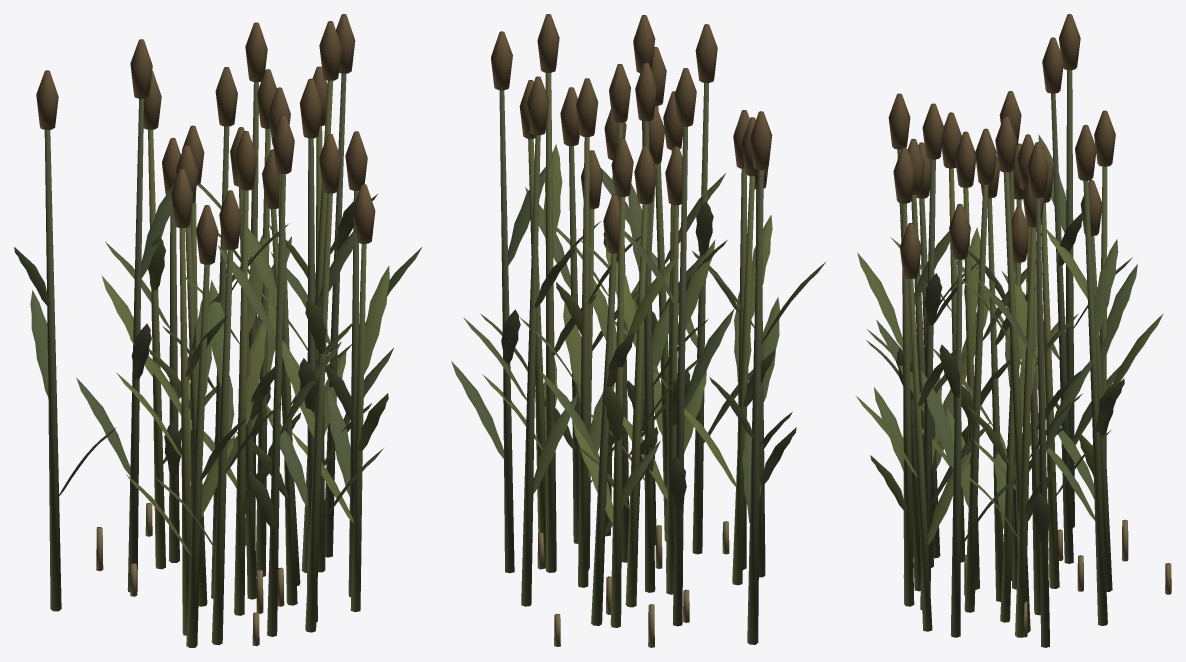
File: reed-18-lod0.gltf
3 views of the same model, side by side, from view 1: azimuth 30°, elevation 25°; view 2: azimuth 150°, elevation 25°; view 3: azimuth 270°, elevation 25° (orthographic). The views are drawn at different scales.
Visible parts, largest first — view 1: Reed 18 L0; view 2: Reed 18 L0; view 3: Reed 18 L0.
Part boxes in pixels (bbox=[...]): Reed 18 L0: bbox=[14, 14, 421, 647]; Reed 18 L0: bbox=[451, 14, 826, 647]; Reed 18 L0: bbox=[855, 14, 1171, 647].
Bounding box in the file's own units: 0.8974 × 1.25 × 0.6872.
